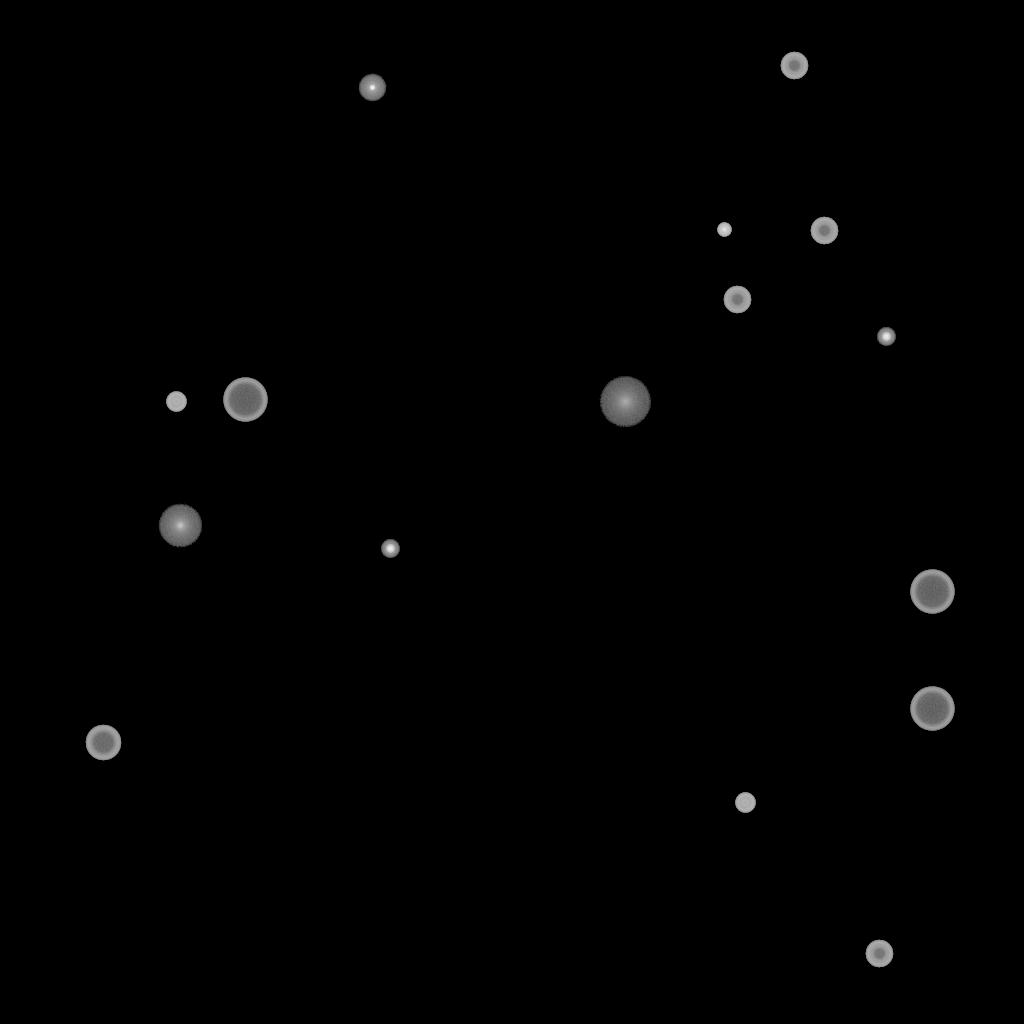depth:-10: (358, 74, 386, 102)
depth:-20: (877, 328, 895, 346), (381, 540, 399, 558)
depth:-30: (717, 223, 731, 237)
depth:-40: (735, 793, 755, 813), (166, 392, 186, 412)
depth:-50: (723, 286, 751, 314), (810, 217, 838, 245), (865, 940, 893, 968), (780, 52, 808, 80)
depth:-60: (85, 725, 121, 761)
depth:-70: (910, 687, 954, 731), (910, 570, 954, 614), (223, 378, 267, 422)
depth:10: (158, 504, 202, 548)
depth:20: (599, 377, 651, 427)
